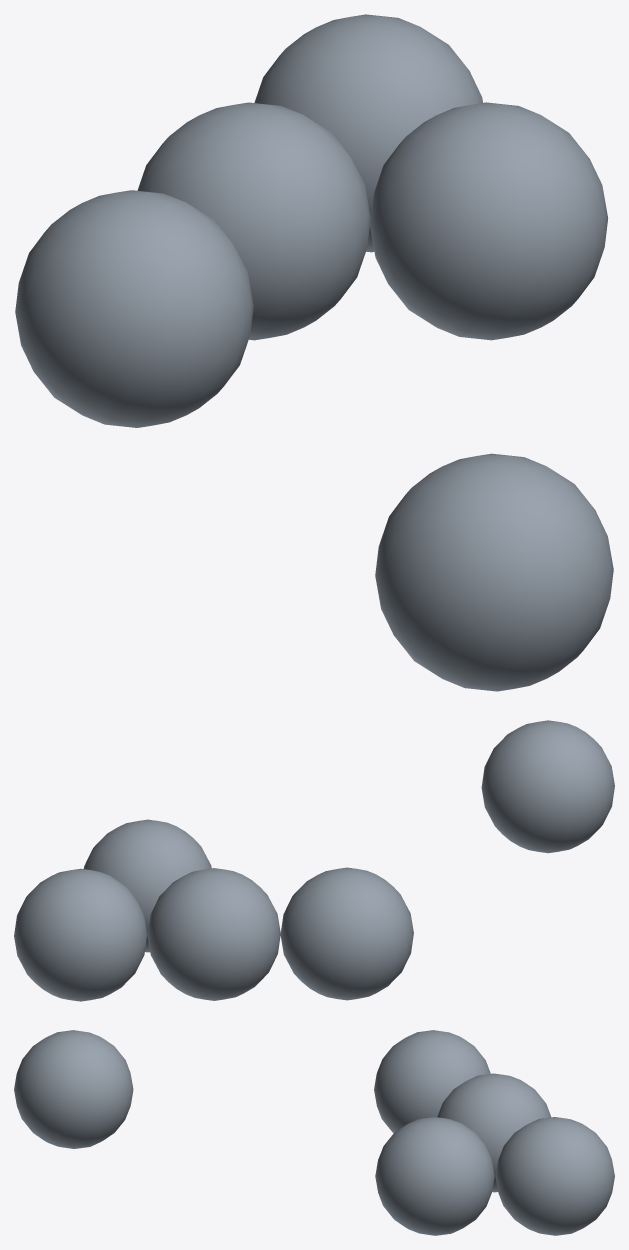
3 views of the same model, one above another, from view 1: azimuth 30°, elevation 25°; view 2: azimuth 150°, elevation 25°; view 3: azimuth 270°, elevation 25° (orthographic). The views are drawn at different scales.
Visible parts, largest first — view 1: GeoSphere130; view 2: GeoSphere130; view 3: GeoSphere130.
Boxes of the visible parts, x1,y1,x2,y2 form: GeoSphere130: (15,14,613,691); GeoSphere130: (14,720,614,1001); GeoSphere130: (14,1030,614,1235).
Bounding box in the file's own units: 109 × 40 × 201.
1 material, 1 textured.
